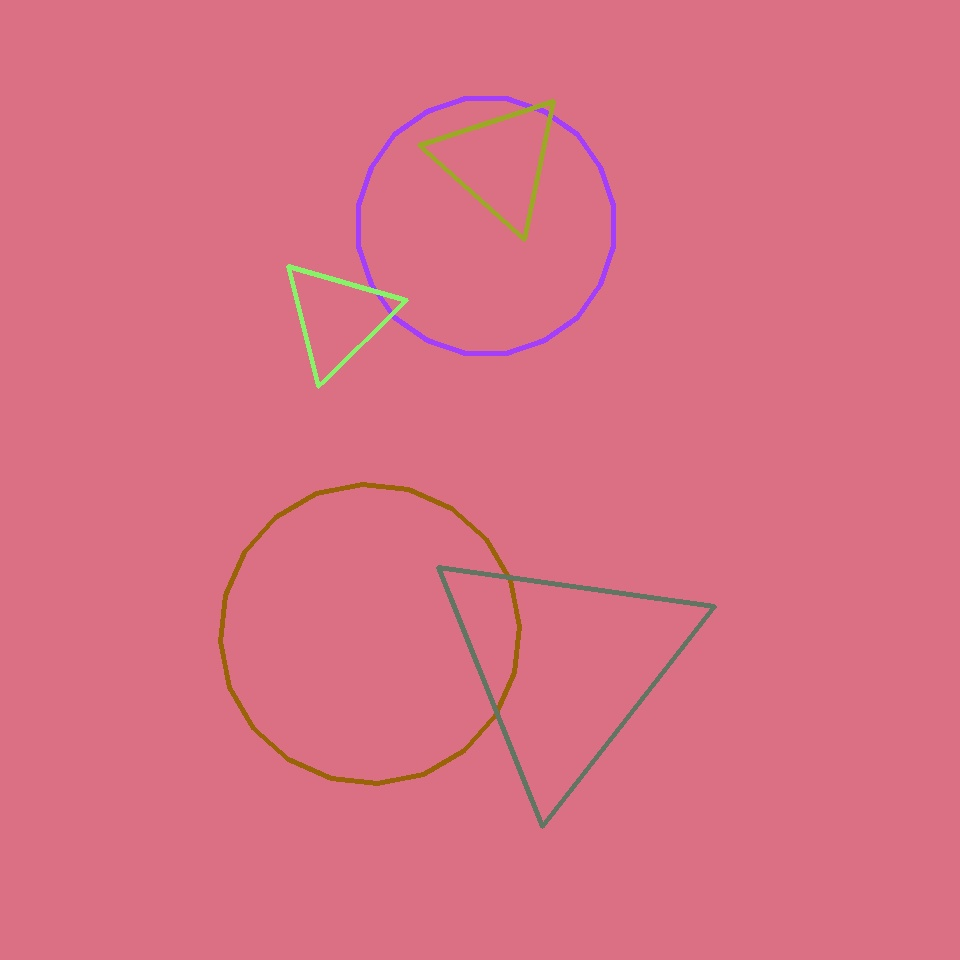circle: (427, 538, 703, 796), (432, 93, 566, 231), (279, 258, 397, 378)
triangle: (221, 484, 520, 784), (358, 98, 614, 354)
